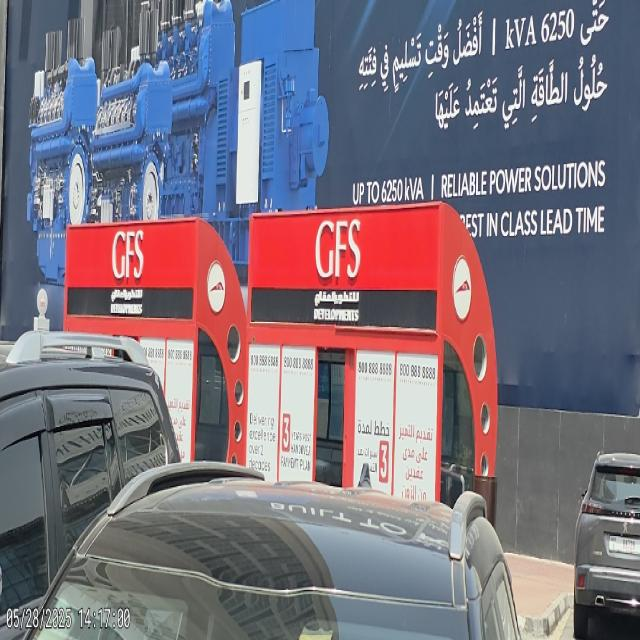poster: (242, 196, 439, 499)
